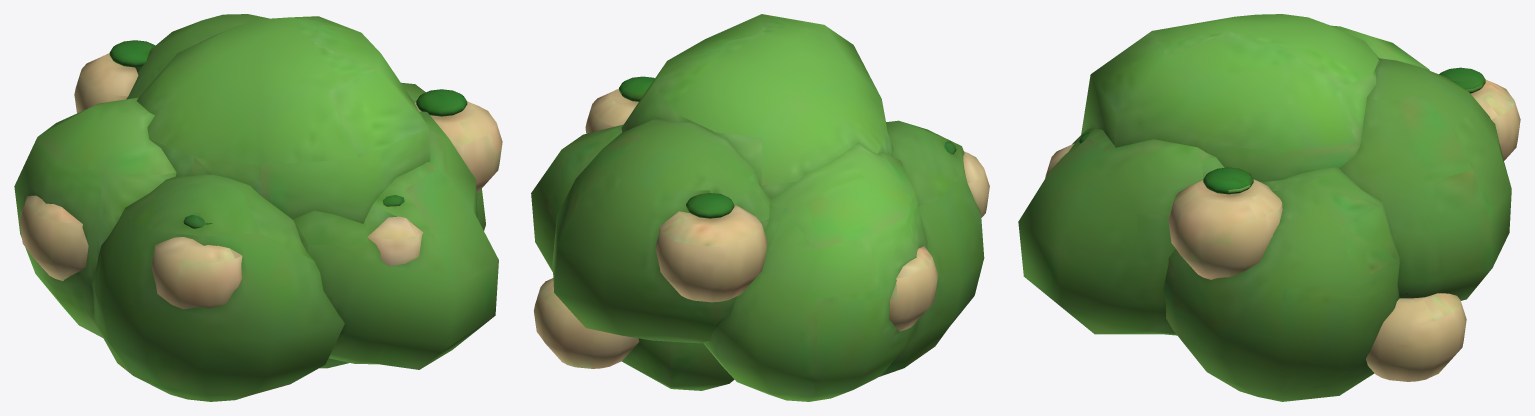
The model's file is crop_chickpea.glb.
The picture shows the model from 3 angles, left to right: view 1: azimuth 30°, elevation 25°; view 2: azimuth 150°, elevation 25°; view 3: azimuth 270°, elevation 25°; orthographic projection. The views are drawn at different scales.
Visible parts, largest first — view 1: crop_chickpea, fruit; view 2: crop_chickpea, fruit; view 3: crop_chickpea, fruit.
Boxes of the visible parts, x1,y1,x2,y2 form: crop_chickpea: [14, 14, 498, 401]; fruit: [19, 53, 502, 309]; crop_chickpea: [531, 14, 984, 401]; fruit: [534, 88, 989, 368]; crop_chickpea: [1018, 14, 1511, 401]; fruit: [1045, 80, 1520, 381].
Bounding box in the file's own units: 0.2659 × 0.2091 × 0.275.
1 material, 1 textured.
